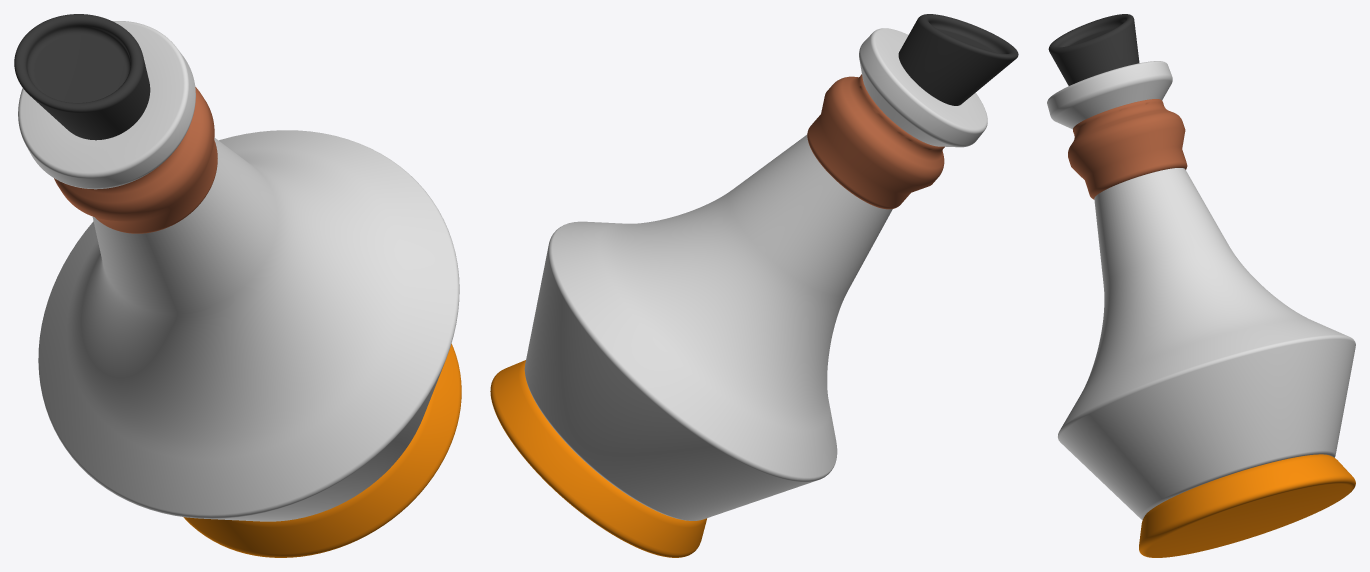
File: eye filled poison.glb
The picture shows the model from 3 angles, left to right: view 1: azimuth 30°, elevation 25°; view 2: azimuth 150°, elevation 25°; view 3: azimuth 270°, elevation 25°; orthographic projection. The views are drawn at different scales.
Visible parts, largest first — view 1: Cylinder, Cylinder.002, Cylinder.001, Cylinder.004; view 2: Cylinder, Cylinder.001, Cylinder.004, Cylinder.002; view 3: Cylinder, Cylinder.001, Cylinder.004, Cylinder.002.
Boxes of the visible parts, x1=… form: Cylinder: x1=18, y1=21, x2=459, y2=521; Cylinder.002: x1=14, y1=14, x2=150, y2=140; Cylinder.001: x1=183, y1=343, x2=461, y2=557; Cylinder.004: x1=54, y1=87, x2=217, y2=233; Cylinder: x1=524, y1=28, x2=987, y2=520; Cylinder.001: x1=490, y1=360, x2=706, y2=557; Cylinder.004: x1=807, y1=74, x2=944, y2=209; Cylinder.002: x1=898, y1=14, x2=1018, y2=105; Cylinder: x1=1047, y1=61, x2=1355, y2=519; Cylinder.001: x1=1139, y1=454, x2=1355, y2=557; Cylinder.004: x1=1068, y1=99, x2=1187, y2=199; Cylinder.002: x1=1048, y1=14, x2=1139, y2=85.
Bounding box in the file's own units: 5.59 × 6.61 × 4.13.
